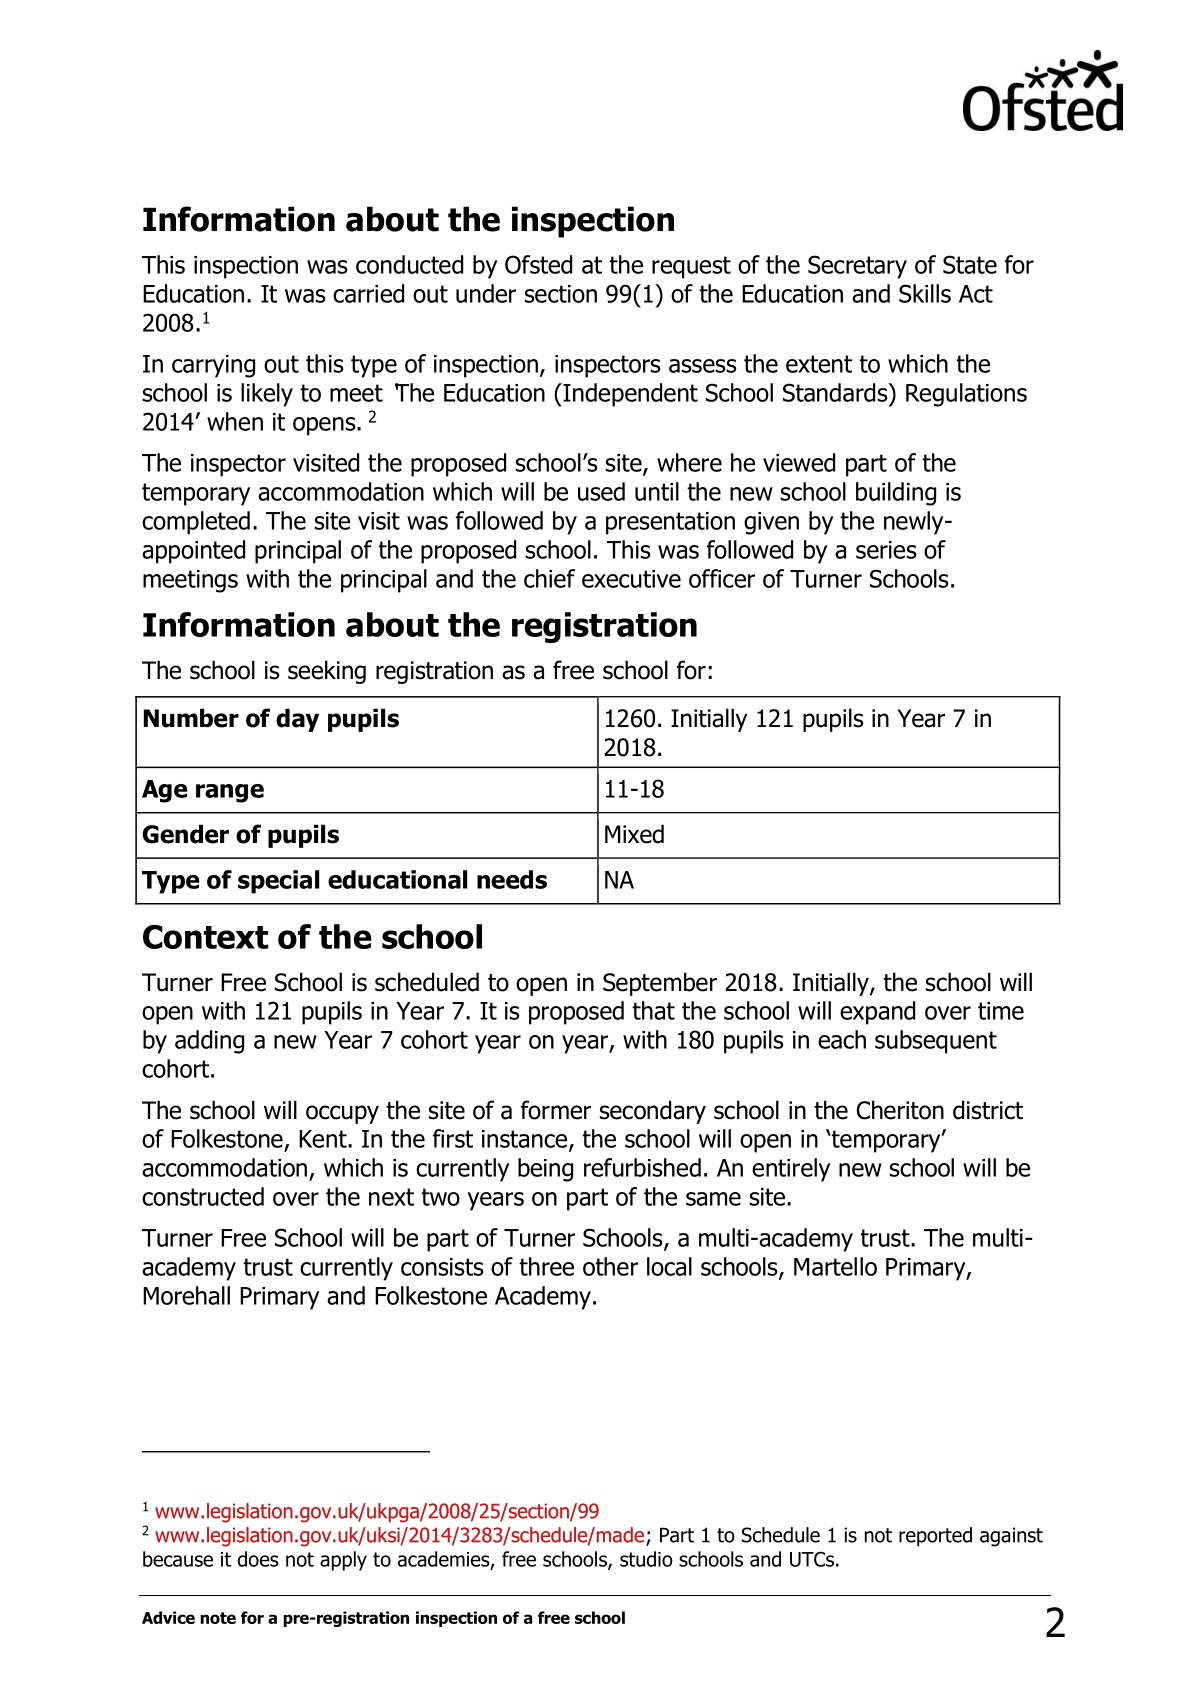full_lined: (134, 694, 1061, 906)
